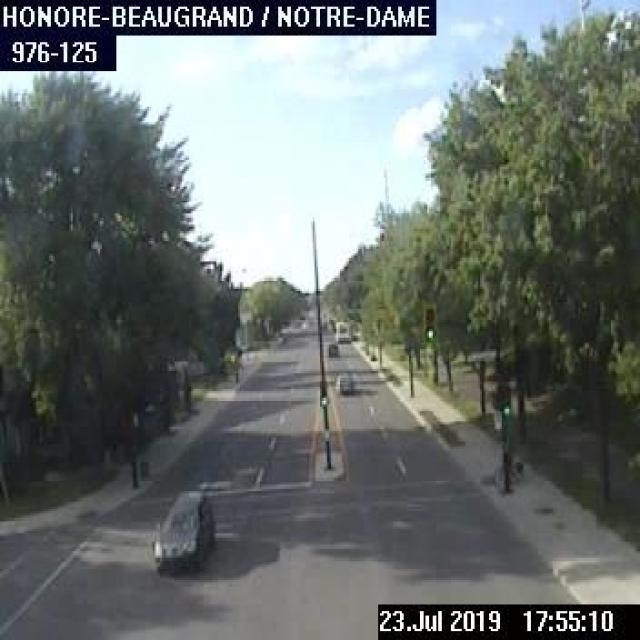bus: (334, 319, 349, 341)
vehicle: (151, 491, 214, 571), (332, 368, 352, 393), (327, 342, 337, 355)
